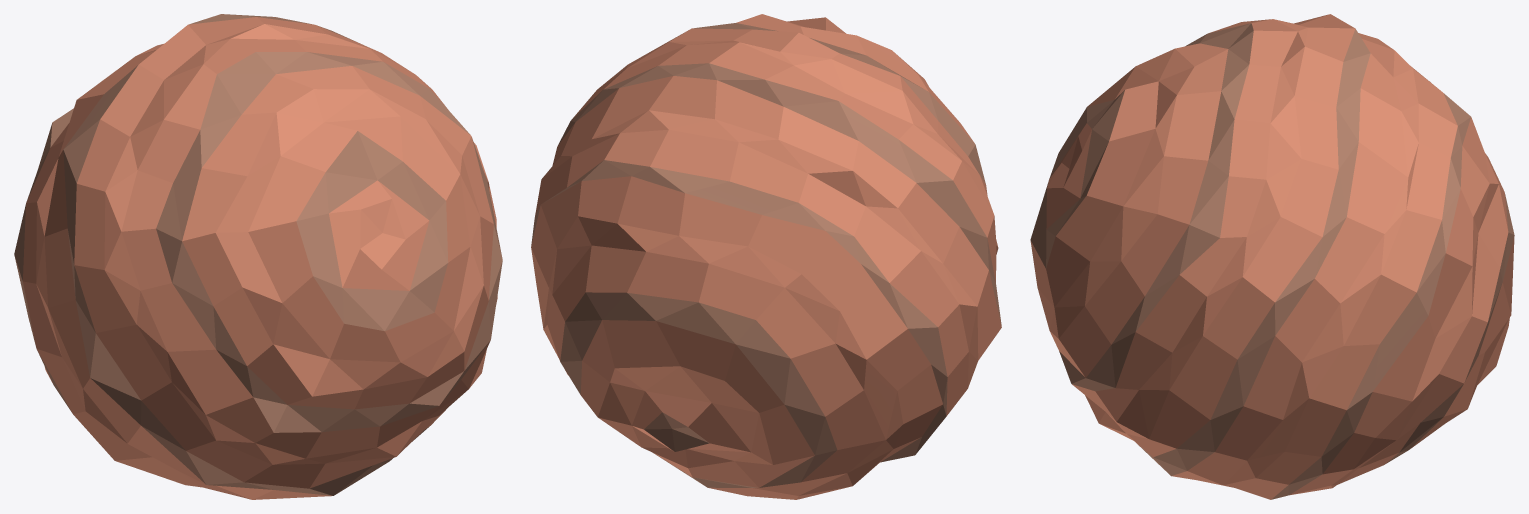
Rendered from venus.glb.
3 views of the same model, side by side, from view 1: azimuth 30°, elevation 25°; view 2: azimuth 150°, elevation 25°; view 3: azimuth 270°, elevation 25° (orthographic).
Parts seen in each view (by area): view 1: Venus_Icosphere.004; view 2: Venus_Icosphere.004; view 3: Venus_Icosphere.004.
Boxes of the visible parts, x1,y1,x2,y2 form: Venus_Icosphere.004: [14, 14, 502, 499]; Venus_Icosphere.004: [531, 14, 1001, 499]; Venus_Icosphere.004: [1030, 14, 1514, 499].
Bounding box in the file's own units: 1.82 × 1.84 × 1.82.
